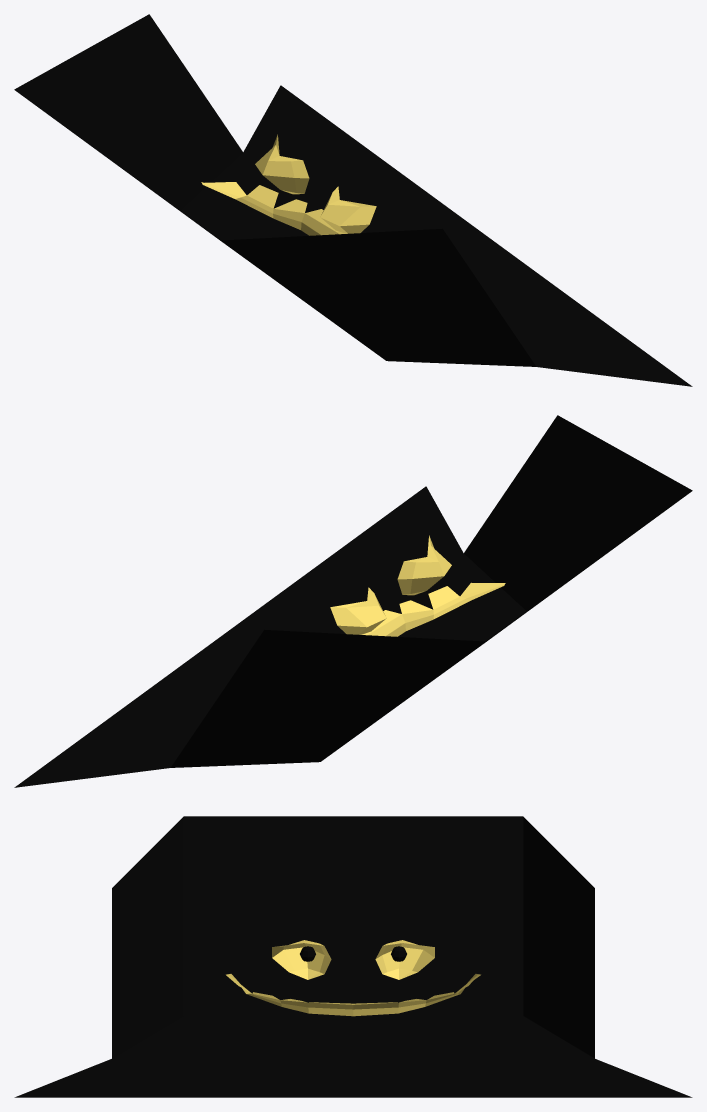
Rendered from obake.fbx.
3 renders of one model, top to bottom at view 1: azimuth 30°, elevation 25°; view 2: azimuth 150°, elevation 25°; view 3: azimuth 270°, elevation 25°, orthographic. The views are drawn at different scales.
Parts seen in each view (by area): view 1: 平面; view 2: 平面; view 3: 平面.
Boxes of the visible parts, x1=… form: 平面: x1=14, y1=14, x2=692, y2=386; 平面: x1=14, y1=415, x2=692, y2=787; 平面: x1=14, y1=816, x2=692, y2=1097.
Size of the model in its own units: 104 by 43.12 by 200.
